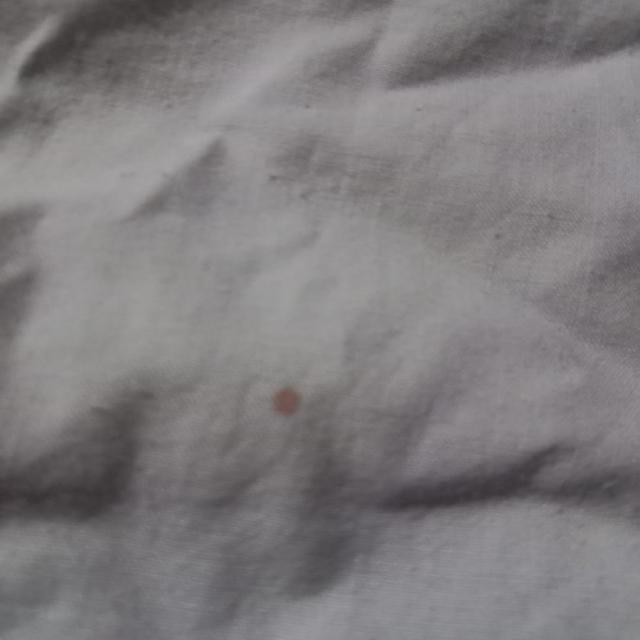stain: (251, 376, 321, 426)
